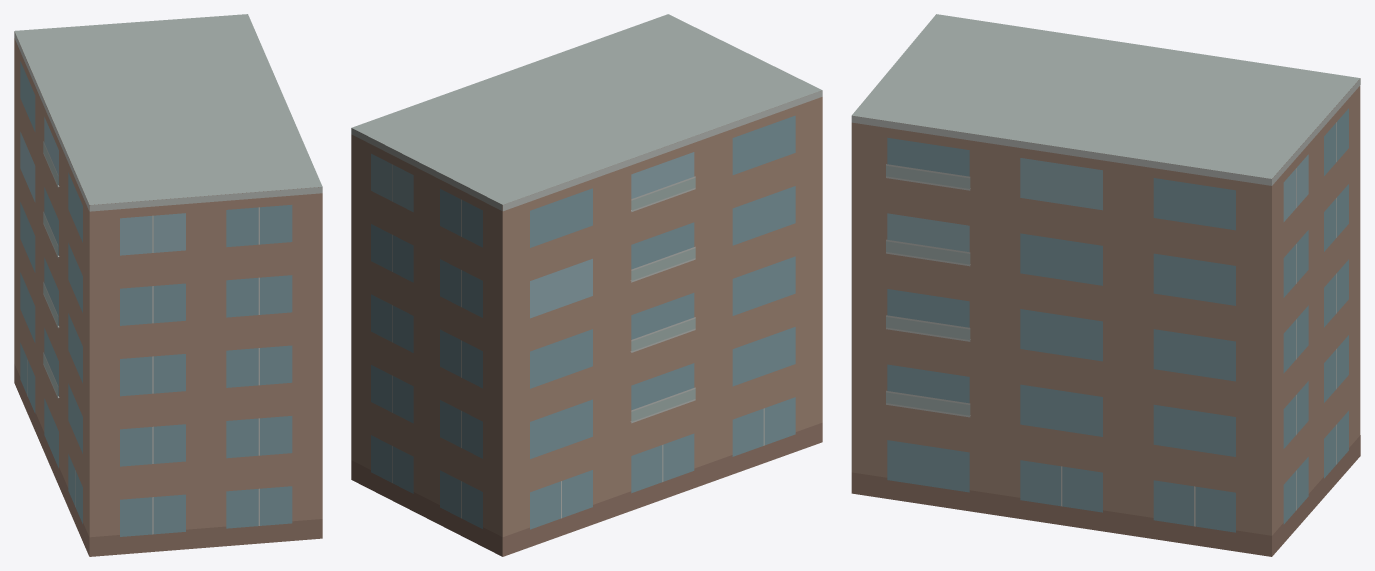
File: survey-upis-32944127.glb
3 renders of one model, left to right at view 1: azimuth 30°, elevation 25°; view 2: azimuth 150°, elevation 25°; view 3: azimuth 270°, elevation 25°, orthographic. The views are drawn at different scales.
Visible parts, largest first — view 1: survey-upis-32944127.tmp; view 2: survey-upis-32944127.tmp; view 3: survey-upis-32944127.tmp.
Boxes of the visible parts, <box> form: survey-upis-32944127.tmp: <box>14,14,322,556</box>; survey-upis-32944127.tmp: <box>351,14,822,556</box>; survey-upis-32944127.tmp: <box>851,14,1360,556</box>.
Bounding box in the file's own units: 12.37 × 13.2 × 16.12.
